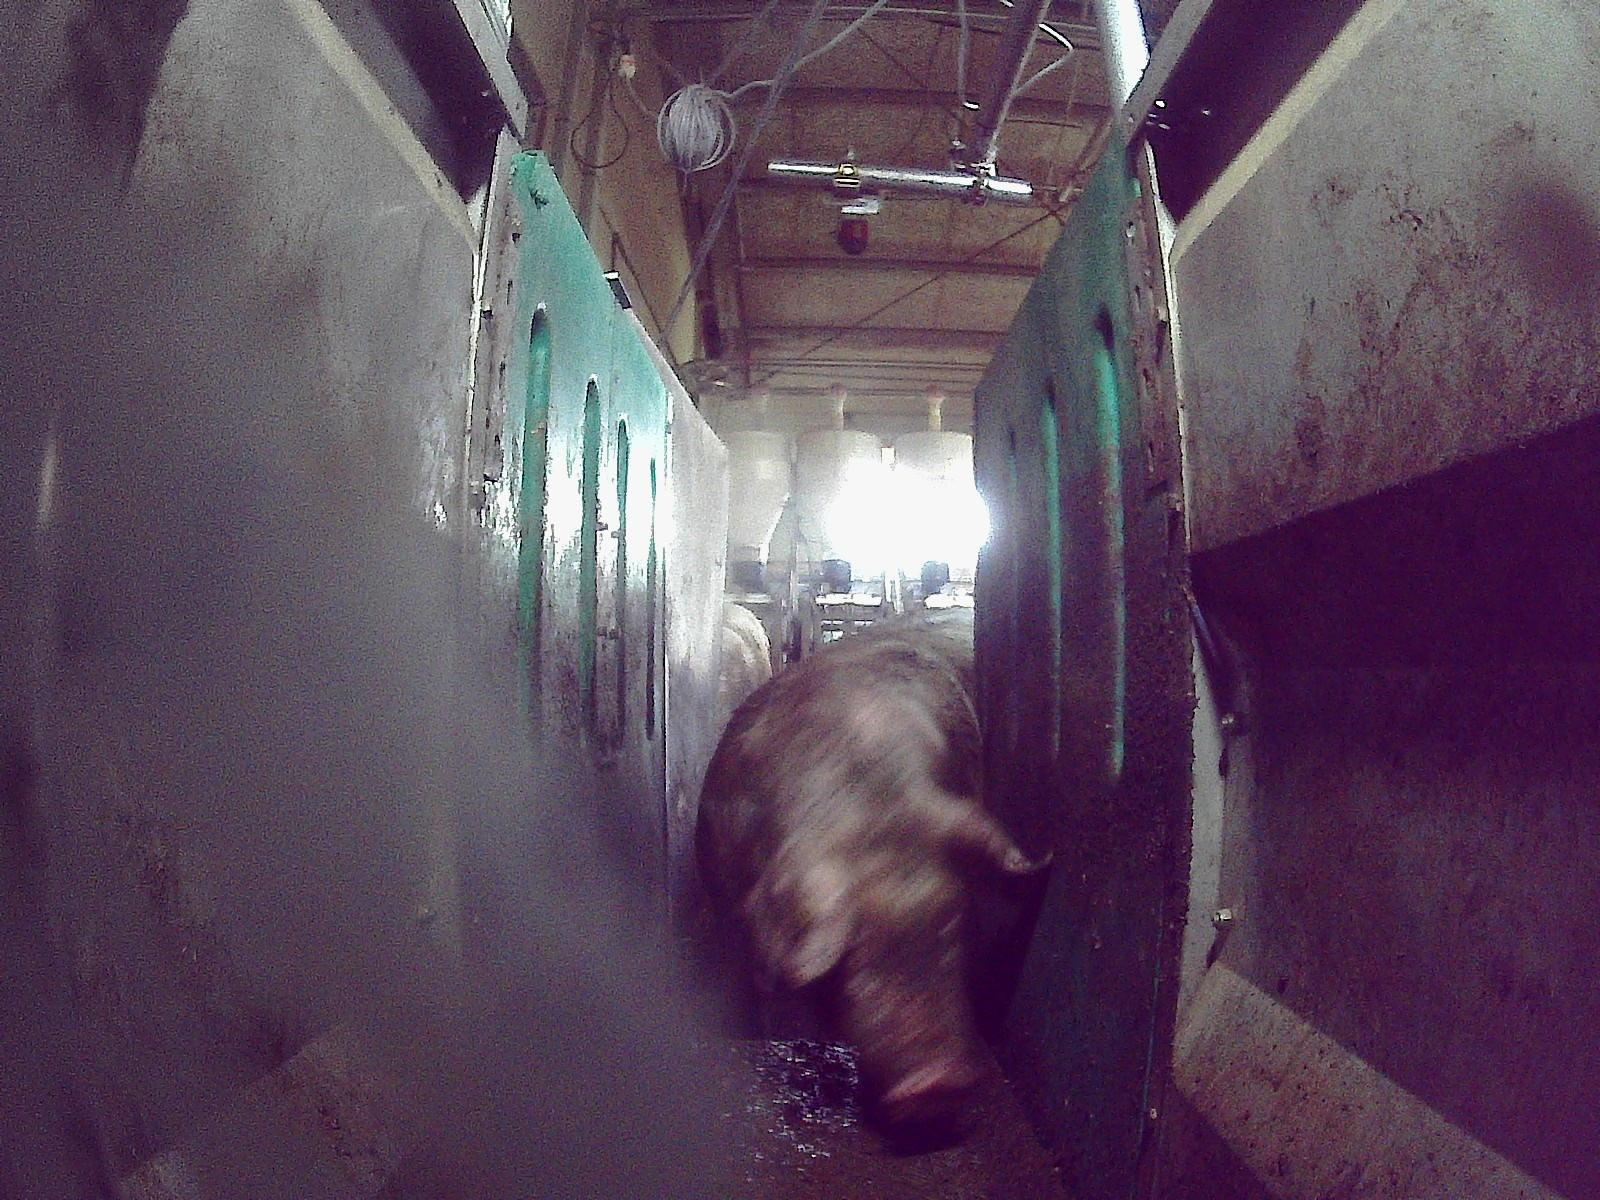Face: (781, 808, 999, 1124)
